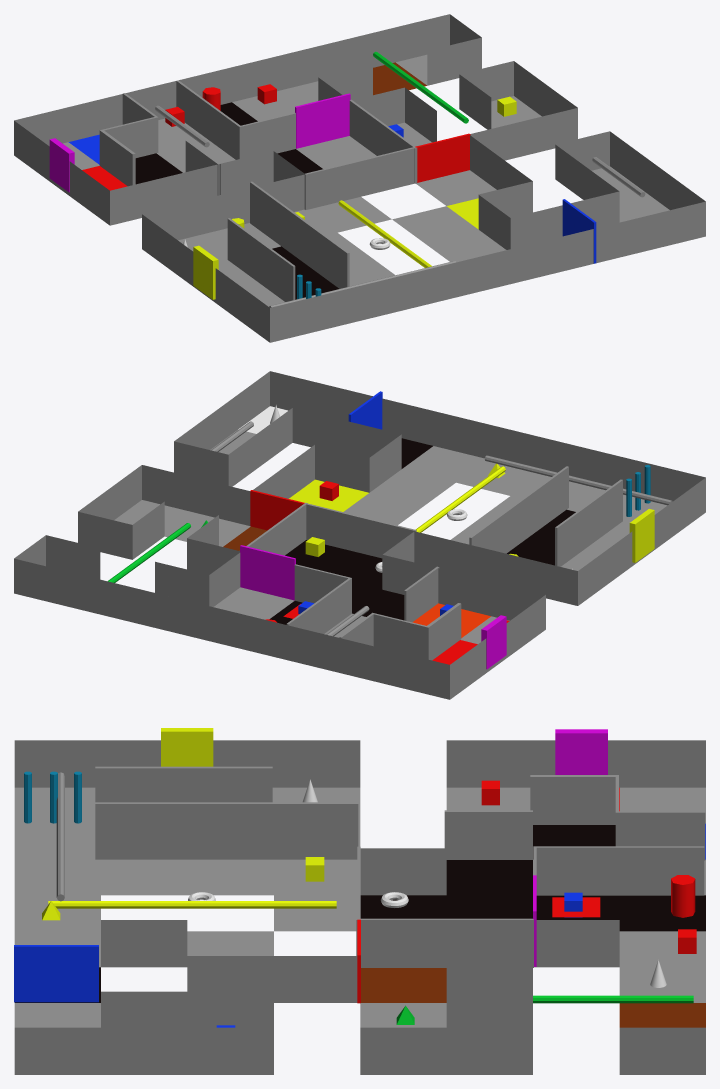
File: Escena_Demo.FBX
The picture shows the model from 3 angles, top to bottom: view 1: azimuth 30°, elevation 25°; view 2: azimuth 150°, elevation 25°; view 3: azimuth 270°, elevation 25°; orthographic projection. The views are drawn at different scales.
Parts seen in each view (by area): view 1: Base_Escena_Demo, Pared_Entorno_1, Pared_Entorno_5, Pared_Entorno_3, Pared_Entorno_7, Pared_Entorno_2, ObjetoB_Purpura_1, ObjetoB_Rojo, Pared_Entorno_4, PuertaFake_Amarilla, ObjetoB_Purpura_Final_1, ObjetoB_Azul_1 (+9 smaller); view 2: Base_Escena_Demo, Pared_Entorno_7, Pared_Entorno_1, Pared_Entorno_3, Pared_Entorno_5, Pared_Entorno_2, ObjetoB_Purpura_1, Pared_Entorno_4, ObjetoB_Rojo, Pared_Entorno_6, Celda_Cafe_Res1_4, Celda_Amarilla_Bloqueo_1 (+13 smaller); view 3: Base_Escena_Demo, Pared_Entorno_1, Pared_Entorno_5, Pared_Entorno_4, Pared_Entorno_7, Pared_Entorno_2, ObjetoB_Azul_1, Pared_Entorno_6, Celda_Cafe_Res1_7, Celda_Cafe_Res2_1, Celda_Cafe_Res1_9, ObjetoB_Purpura_Final_1 (+12 smaller).
Boxes of the visible parts, x1,y1,x2,y2 form: Base_Escena_Demo: (14,14,705,342); Pared_Entorno_1: (250,181,349,288); Pared_Entorno_5: (176,80,295,159); Pared_Entorno_3: (304,147,415,209); Pared_Entorno_7: (99,93,158,186); Pared_Entorno_2: (227,218,295,301); ObjetoB_Purpura_1: (295,93,350,148); ObjetoB_Rojo: (415,133,470,182); Pared_Entorno_4: (349,99,417,183); PuertaFake_Amarilla: (193,245,218,299); ObjetoB_Purpura_Final_1: (49,138,74,192); ObjetoB_Azul_1: (562,199,596,263); Base_Escena_Demo: (14,371,705,699); Pared_Entorno_7: (339,603,461,660); Pared_Entorno_1: (469,466,568,553); Pared_Entorno_3: (305,503,416,562); Pared_Entorno_5: (286,564,351,633); Pared_Entorno_2: (555,479,622,566); ObjetoB_Purpura_1: (240,545,295,600); Pared_Entorno_4: (239,502,307,555); ObjetoB_Rojo: (250,490,304,530); Pared_Entorno_6: (404,566,439,622); Celda_Cafe_Res1_4: (285,540,359,572); Celda_Amarilla_Bloqueo_1: (289,479,368,511); Base_Escena_Demo: (14,740,705,1074); Pared_Entorno_1: (95,802,358,859); Pared_Entorno_5: (533,846,704,895); Pared_Entorno_4: (356,918,533,967); Pared_Entorno_7: (530,775,705,860); Pared_Entorno_2: (95,766,272,802); ObjetoB_Azul_1: (14,945,98,1002); Pared_Entorno_6: (444,810,532,859); Celda_Cafe_Res1_7: (446,860,532,895); Celda_Cafe_Res2_1: (361,968,446,1002); Celda_Cafe_Res1_9: (619,895,705,931); ObjetoB_Purpura_Final_1: (555,729,607,774).
Bounding box in the file's own units: 313 × 30.68 × 317.
